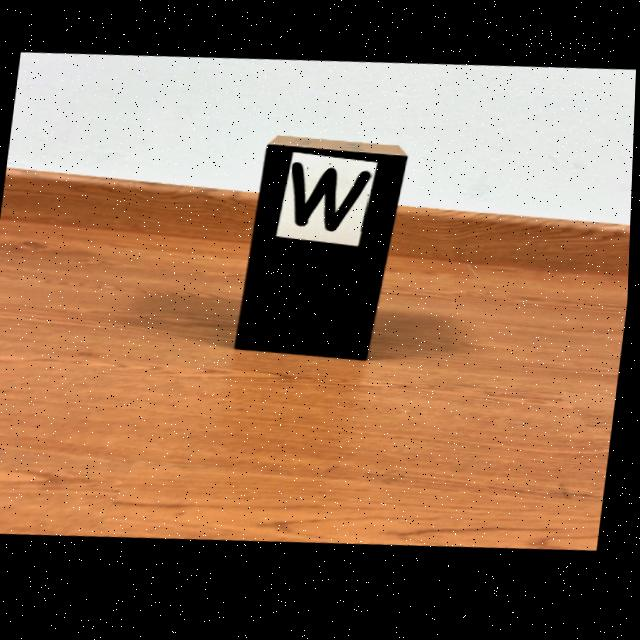W: (293, 166, 372, 235)
